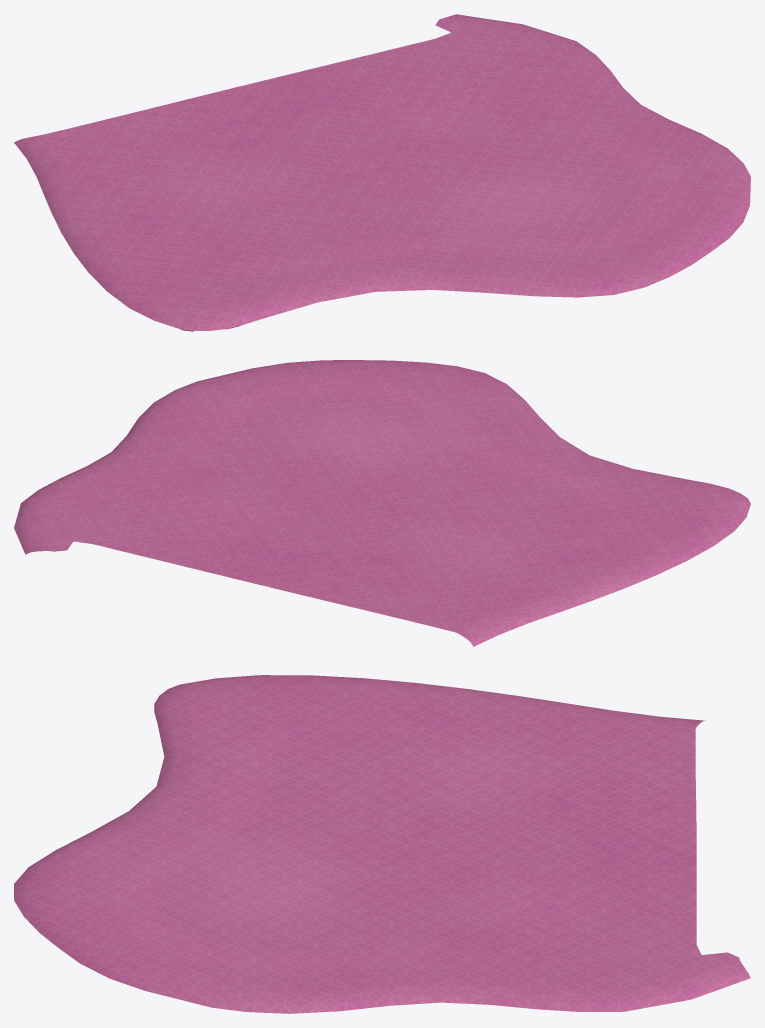
Rendered from Rug.fbx.
3 views of the same model, one above another, from view 1: azimuth 30°, elevation 25°; view 2: azimuth 150°, elevation 25°; view 3: azimuth 270°, elevation 25° (orthographic). The views are drawn at different scales.
Visible parts, largest first — view 1: Rug; view 2: Rug; view 3: Rug.
Part boxes in pixels (x1,y1,x2,y2): Rug: [14, 14, 750, 331]; Rug: [14, 360, 750, 646]; Rug: [14, 675, 750, 1013].
Bounding box in the file's own units: 380 × 3.9 × 350.
